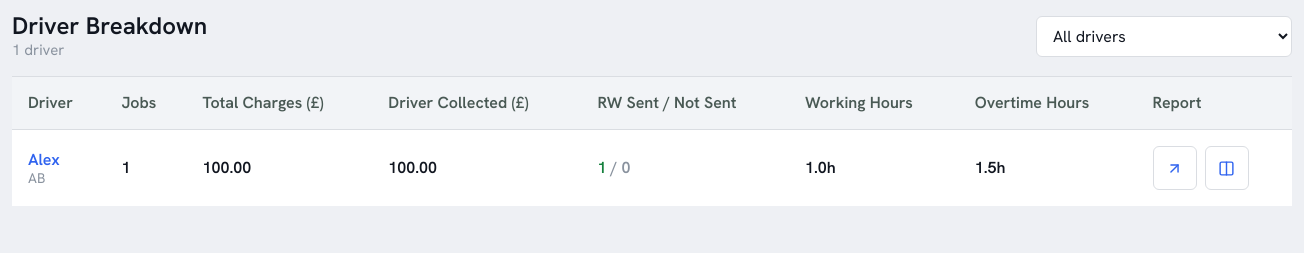
Test case: Driver Breakdown filter › shows only drivers with finished data and preserves the selector for an empty driver
Select "Waiting Driver (WD)" in the dropdown at [1164, 36], box [1036,16,1292,56]
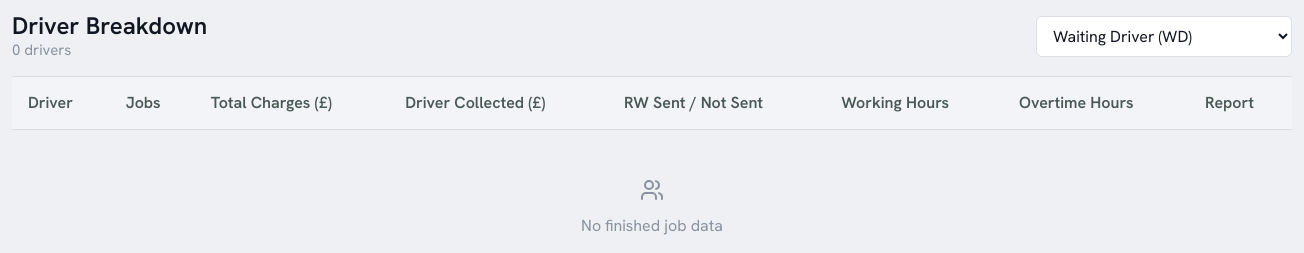
Now the text "No finished job data" is shown, box [581,178,723,236]
